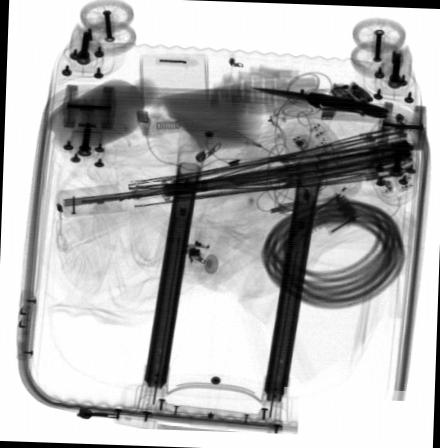Knife: (254, 88, 388, 118)
